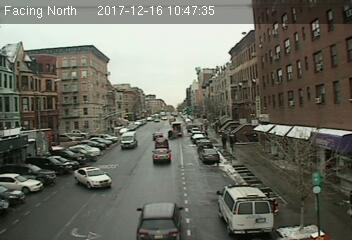car: (136, 201, 184, 240), (74, 167, 112, 190), (118, 131, 140, 150), (153, 148, 171, 164), (200, 149, 219, 162), (154, 137, 169, 149)
police: (216, 182, 276, 235)
